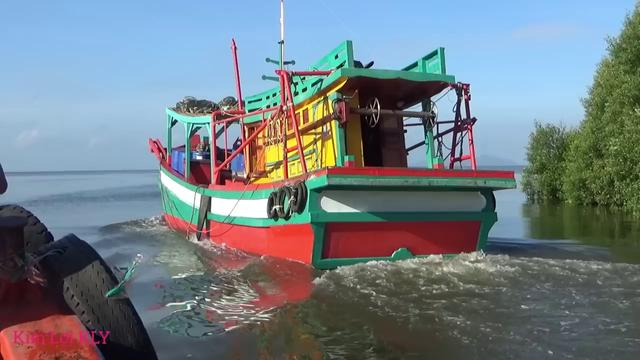Ship: (152, 53, 518, 271)
